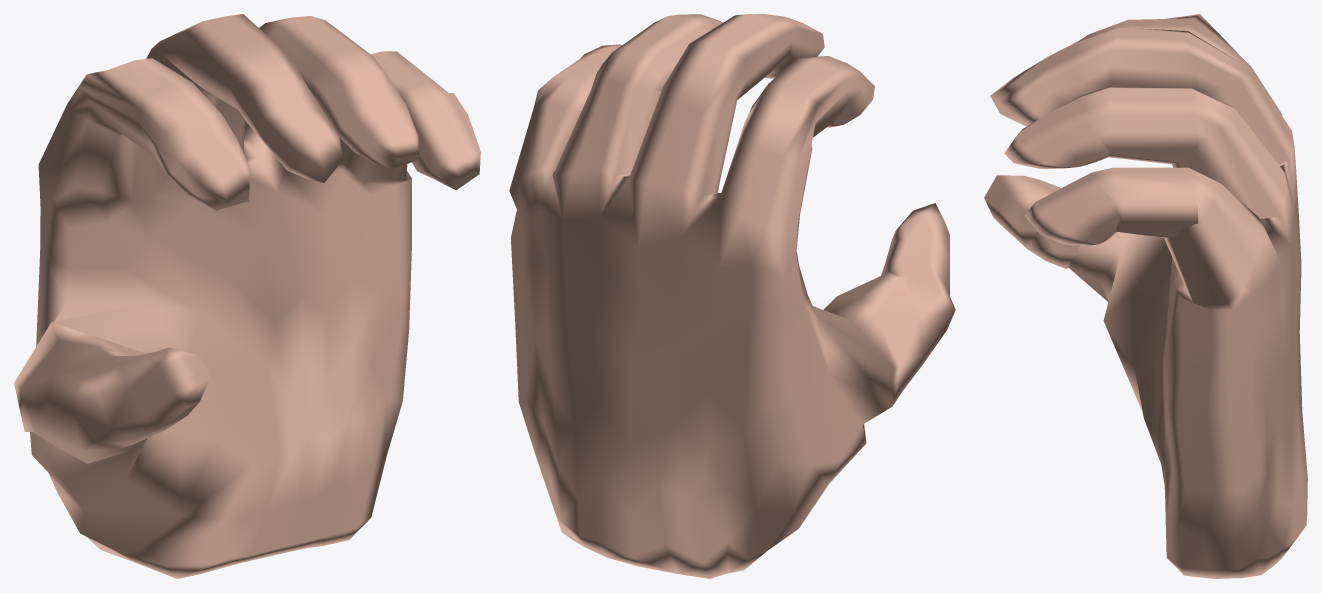
The model's file is MAO_C.obj.
3 views of the same model, side by side, from view 1: azimuth 30°, elevation 25°; view 2: azimuth 150°, elevation 25°; view 3: azimuth 270°, elevation 25° (orthographic). The views are drawn at different scales.
Parts seen in each view (by area): view 1: mao_dir polySurface1; view 2: mao_dir polySurface1; view 3: mao_dir polySurface1.
Part boxes in pixels (left/top/right/bottom): mao_dir polySurface1: left=14, top=14, right=480, bottom=578; mao_dir polySurface1: left=509, top=14, right=955, bottom=578; mao_dir polySurface1: left=984, top=14, right=1307, bottom=578.
Size of the model in its own units: 140 by 181 by 109.
